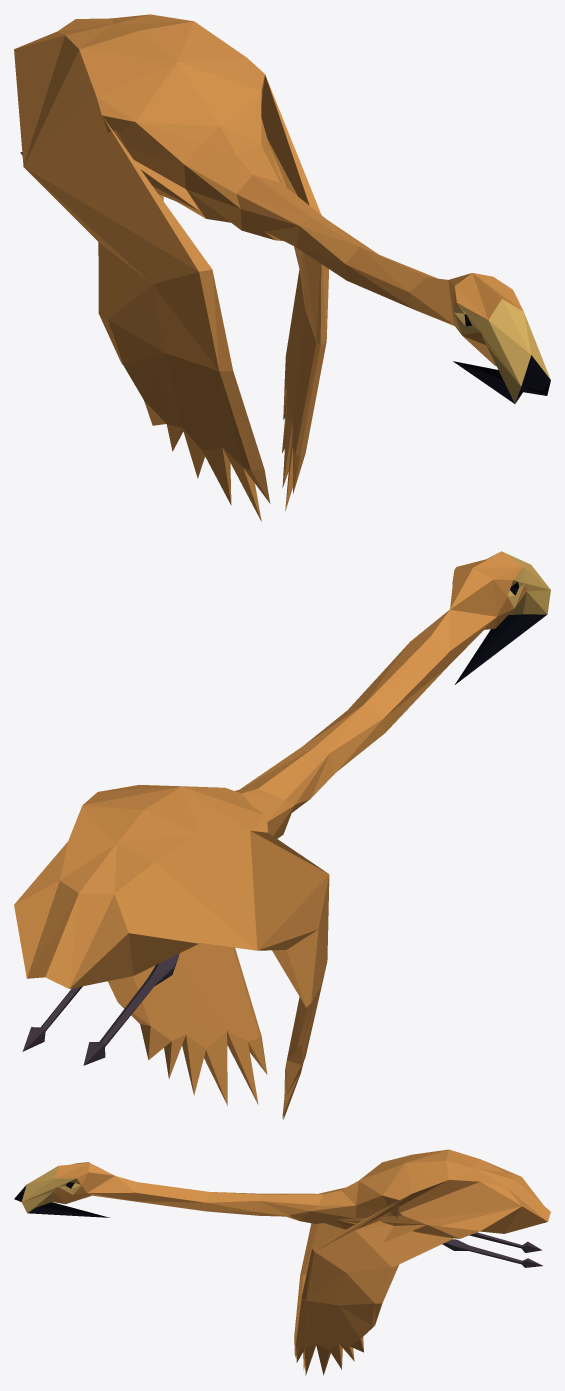
File: Flamingo_orange_v3_big_head.glb
The picture shows the model from 3 angles, top to bottom: view 1: azimuth 30°, elevation 25°; view 2: azimuth 150°, elevation 25°; view 3: azimuth 270°, elevation 25°; orthographic projection. The views are drawn at different scales.
Size of the model in its own units: 55.59 by 94.42 by 216.
